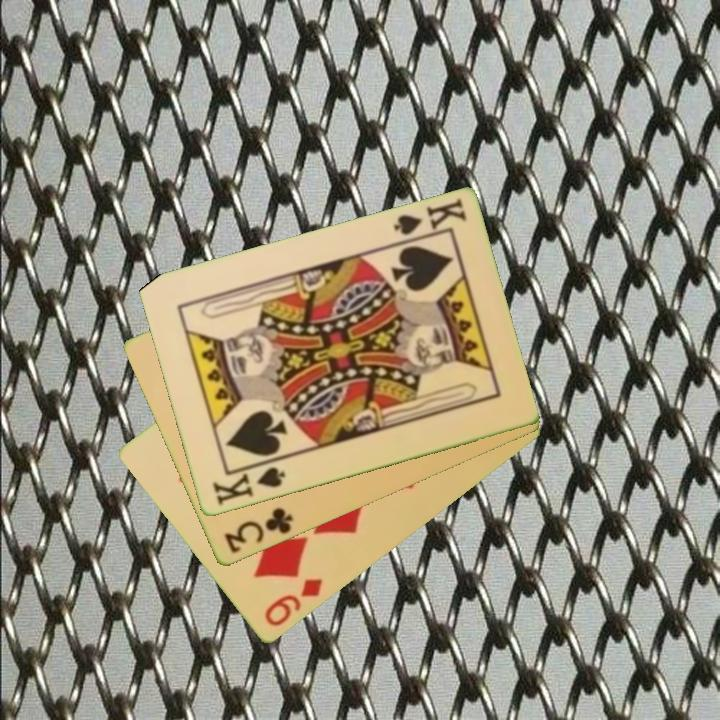3c: (220, 504, 296, 557)
9d: (260, 575, 326, 630)
Ks: (208, 457, 288, 509), (389, 195, 469, 247)
